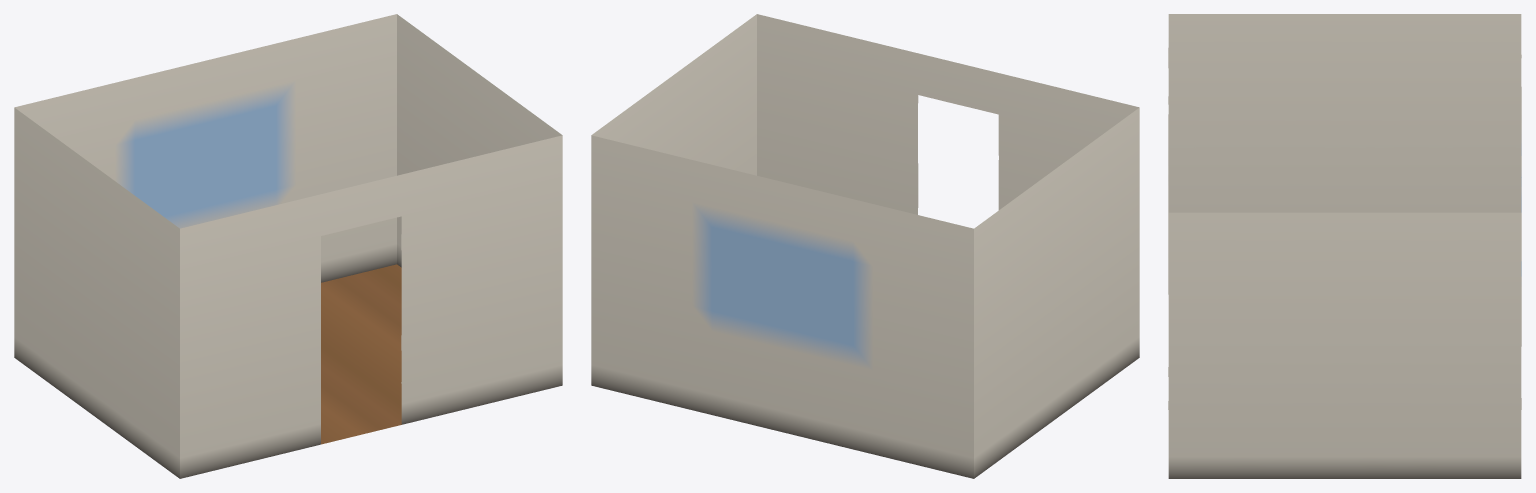
Rendered from scan_room.glb.
3 renders of one model, left to right at view 1: azimuth 30°, elevation 25°; view 2: azimuth 150°, elevation 25°; view 3: azimuth 270°, elevation 25°, orthographic. The views are drawn at different scales.
Parts seen in each view (by area): view 1: scan; view 2: scan; view 3: scan.
Boxes of the visible parts, <box> form: scan: <box>14,14,562,478</box>; scan: <box>591,14,1139,478</box>; scan: <box>1168,14,1521,478</box>.
Bounding box in the file's own units: 4.01 × 2.5 × 3.01.
